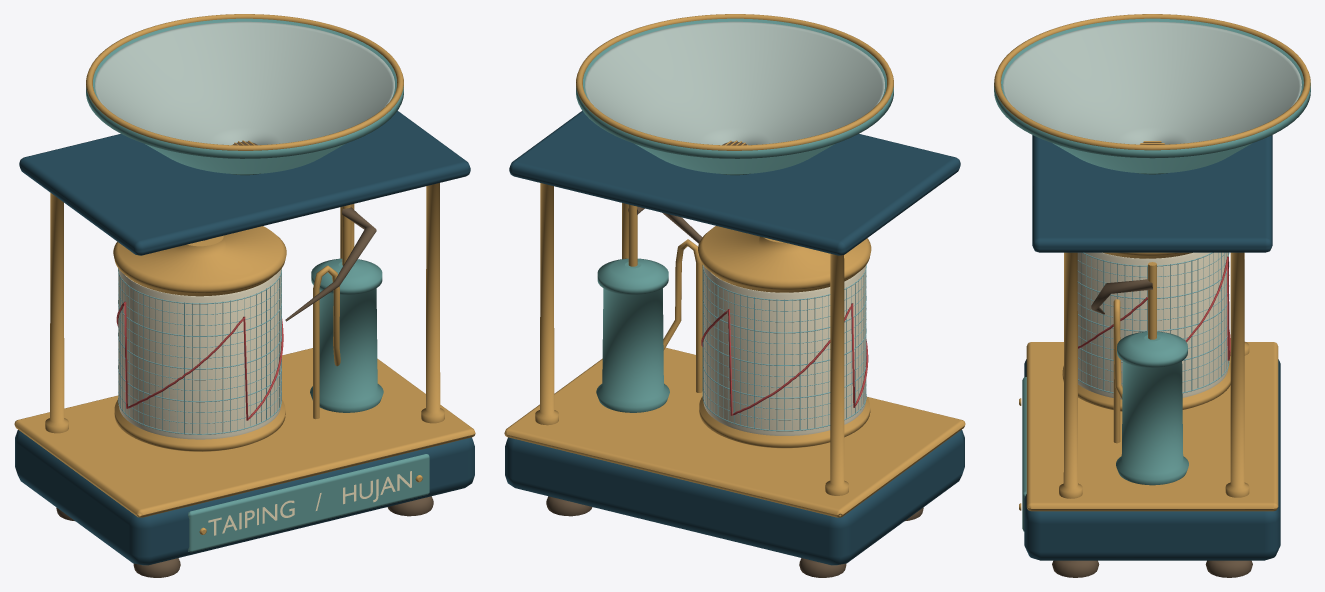
The picture shows the model from 3 angles, left to right: view 1: azimuth 30°, elevation 25°; view 2: azimuth 150°, elevation 25°; view 3: azimuth 270°, elevation 25°; orthographic projection.
Visible parts, largest first — view 1: Bedplate, Collector, Frame, Clock drum, Float mechanism, Identification, Chart; view 2: Bedplate, Collector, Frame, Clock drum, Float mechanism, Chart; view 3: Collector, Bedplate, Frame, Clock drum, Float mechanism, Chart, Identification.
Boxes of the visible parts, <box> form: Bedplate: <box>14,348,475,577</box>; Collector: <box>86,14,403,175</box>; Frame: <box>19,110,470,433</box>; Clock drum: <box>113,226,286,451</box>; Float mechanism: <box>285,204,383,419</box>; Identification: <box>188,454,429,552</box>; Chart: <box>116,268,283,434</box>; Bedplate: <box>504,347,965,577</box>; Collector: <box>576,14,893,175</box>; Frame: <box>509,110,960,495</box>; Clock drum: <box>698,226,871,448</box>; Float mechanism: <box>596,204,702,412</box>; Chart: <box>701,265,868,431</box>; Collector: <box>994,14,1310,174</box>; Bedplate: <box>1024,342,1280,577</box>; Frame: <box>1032,135,1272,498</box>; Clock drum: <box>1062,252,1230,411</box>; Float mechanism: <box>1091,262,1188,485</box>; Chart: <box>1077,252,1230,393</box>; Identification: <box>1019,377,1026,531</box>.
Size of the model in its own units: 0.335 by 0.3989 by 0.268.
